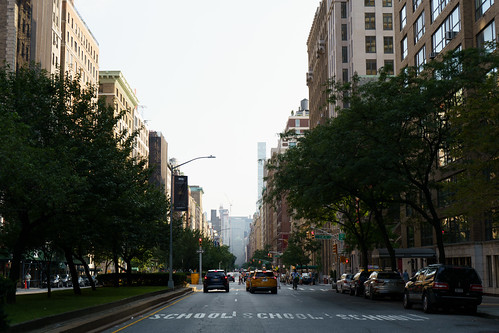building: (390, 1, 499, 170), (300, 6, 398, 151), (12, 1, 106, 104), (251, 108, 307, 254), (135, 106, 171, 185), (99, 70, 132, 154)
car: (407, 264, 483, 313), (368, 269, 402, 302), (200, 267, 232, 297), (338, 269, 368, 297), (244, 269, 276, 290)
sky: (94, 3, 314, 199)
street: (162, 290, 499, 333)
tree: (333, 95, 499, 294), (1, 104, 113, 306), (271, 132, 384, 297), (93, 166, 172, 302)
